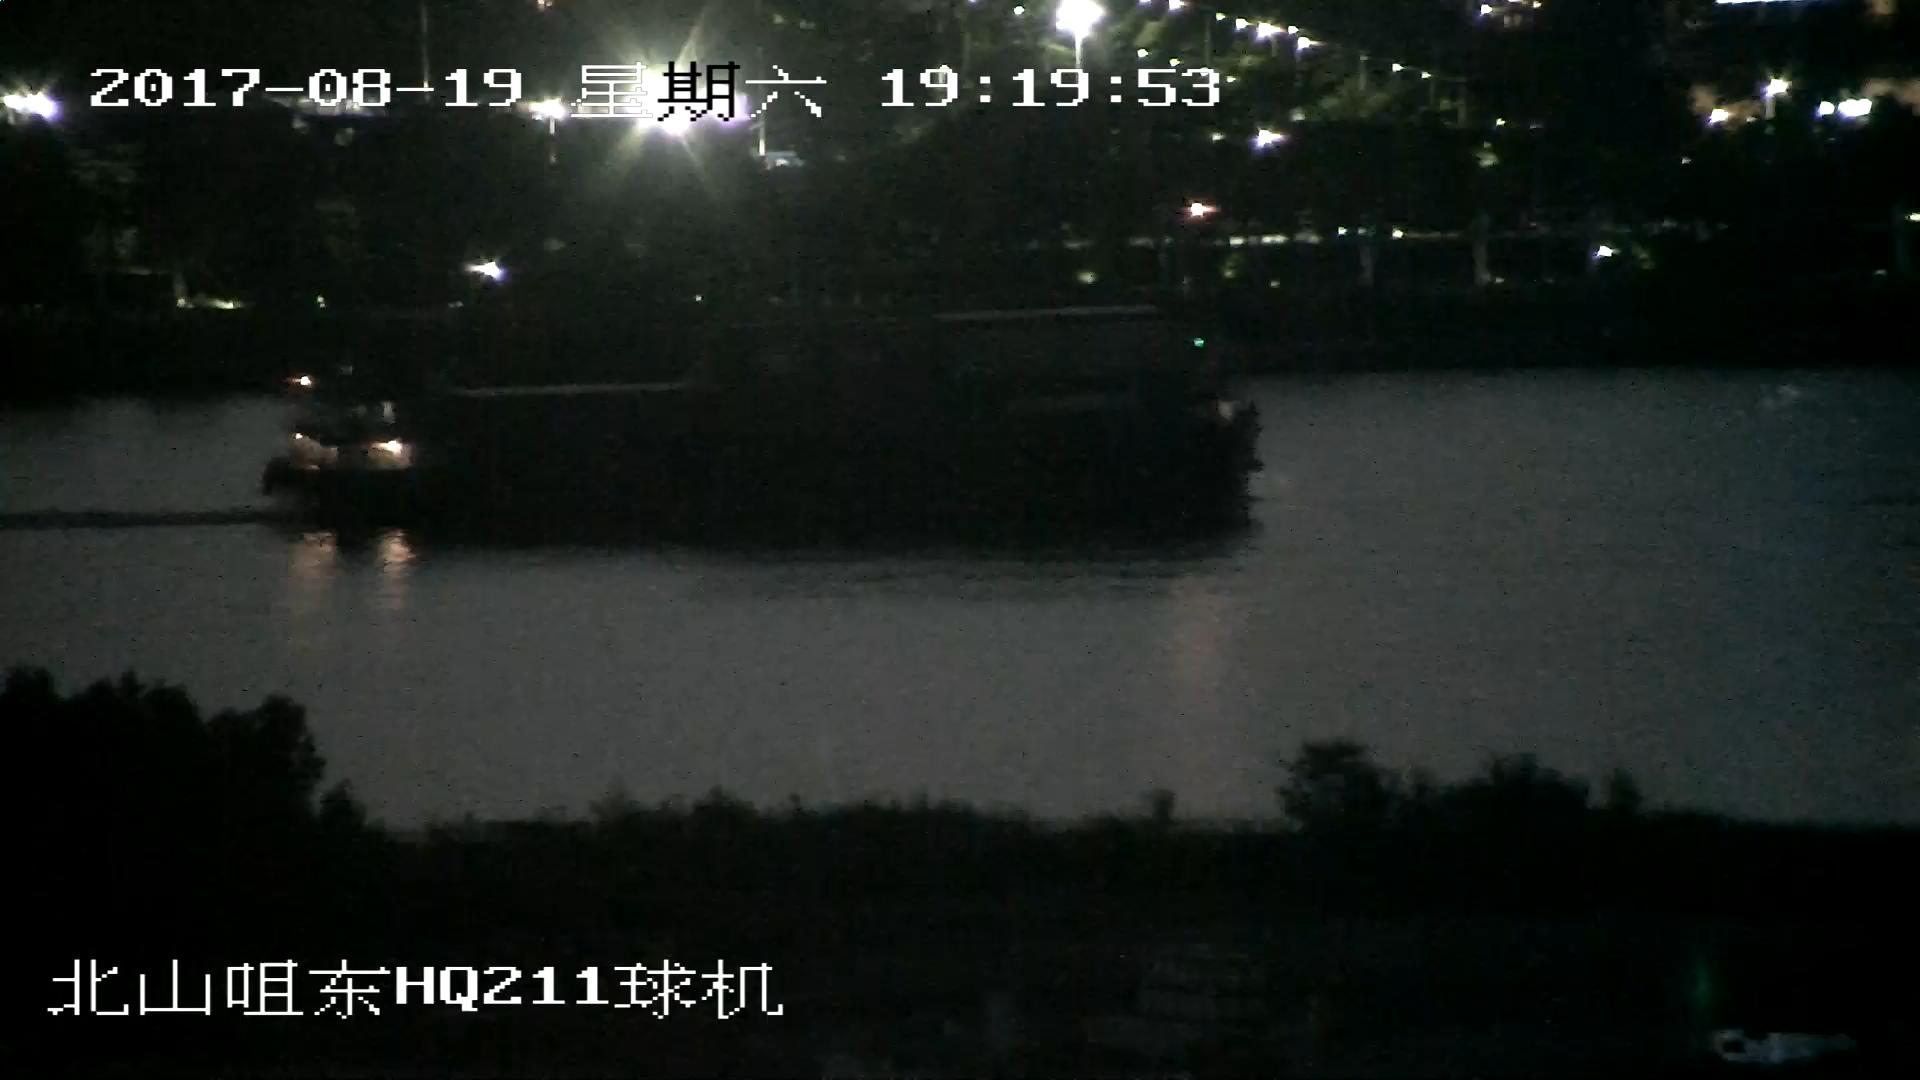container ship: (295, 312, 1267, 537)
